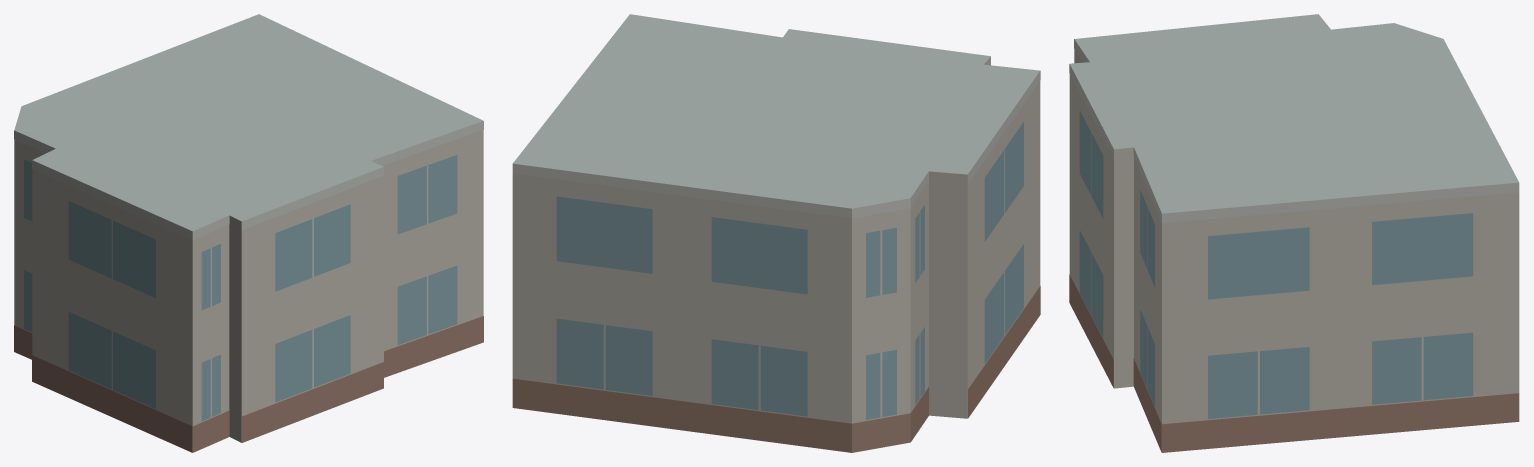
Rendered from survey-upis-32983661.glb.
The picture shows the model from 3 angles, left to right: view 1: azimuth 30°, elevation 25°; view 2: azimuth 150°, elevation 25°; view 3: azimuth 270°, elevation 25°; orthographic projection. The views are drawn at different scales.
Visible parts, largest first — view 1: survey-upis-32983661.tmp; view 2: survey-upis-32983661.tmp; view 3: survey-upis-32983661.tmp.
Boxes of the visible parts, x1,y1,x2,y2 form: survey-upis-32983661.tmp: (14, 14, 483, 452); survey-upis-32983661.tmp: (512, 14, 1040, 452); survey-upis-32983661.tmp: (1069, 14, 1519, 452).
Size of the model in its own units: 10.93 by 6.1 by 10.41.
